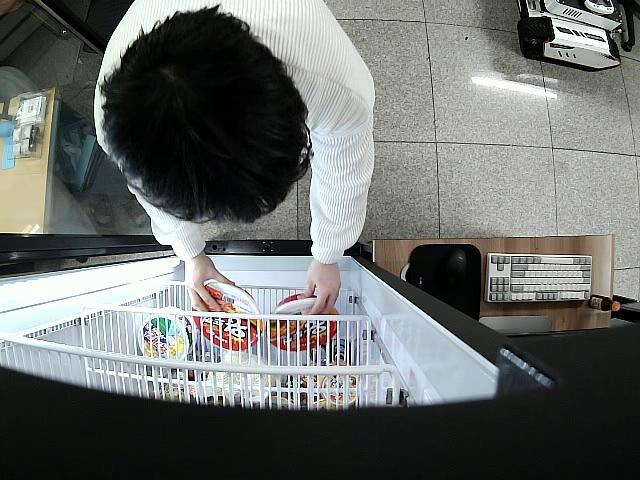00_hand: (184, 255, 233, 314), (305, 263, 341, 315)
10_wangTtukkeong: (193, 280, 262, 353), (267, 292, 340, 351)
